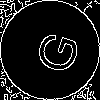G: (25, 25, 82, 78)
